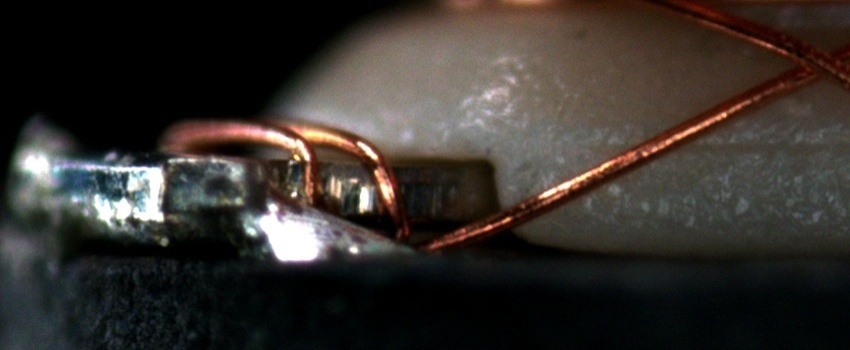CL: (767, 34, 846, 91)
DL: (574, 117, 850, 176)
TE: (157, 110, 429, 245)
